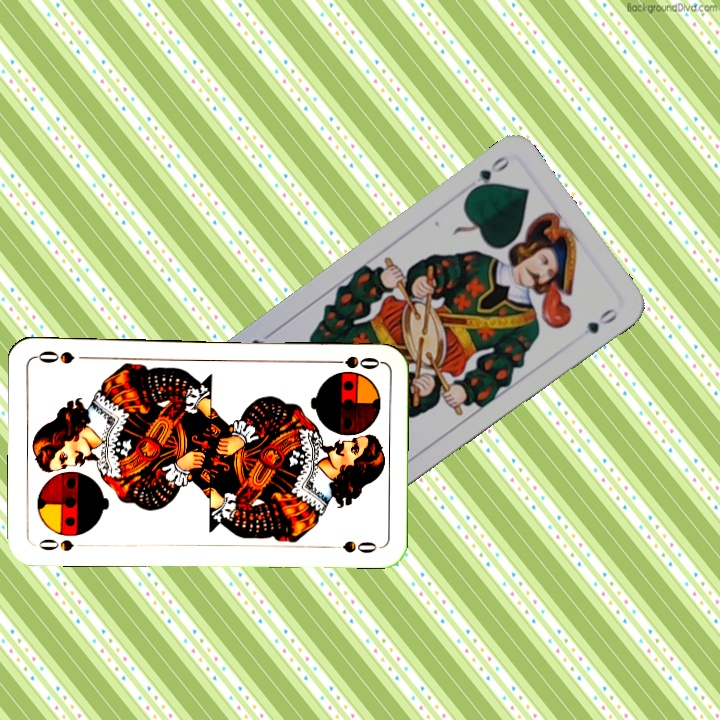GO: (464, 151, 513, 197)
SO: (323, 351, 382, 372), (35, 534, 91, 554)
